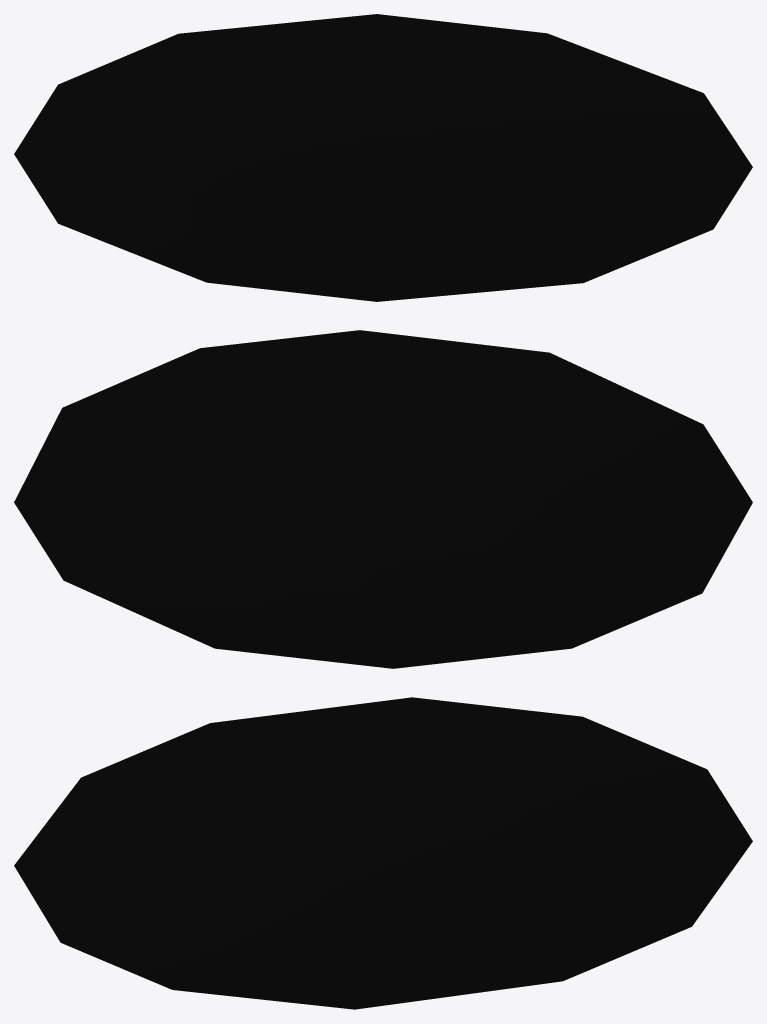
3 renders of one model, top to bottom at view 1: azimuth 30°, elevation 25°; view 2: azimuth 150°, elevation 25°; view 3: azimuth 270°, elevation 25°, orthographic. The views are drawn at different scales.
Visible parts, largest first — view 1: Joint_0_Object_0; view 2: Joint_0_Object_0; view 3: Joint_0_Object_0.
Boxes of the visible parts, <box> form: Joint_0_Object_0: <box>14,14,752,301</box>; Joint_0_Object_0: <box>14,330,752,668</box>; Joint_0_Object_0: <box>14,697,752,1009</box>.
Bounding box in the file's own units: 259 × 1.98 × 259.
Materials: 1 (1 with a texture image).
